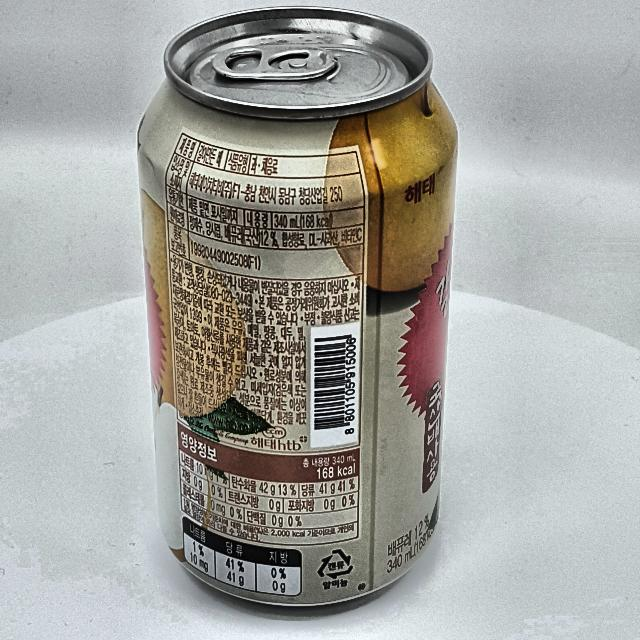galamandeunbae: (139, 8, 458, 606)
